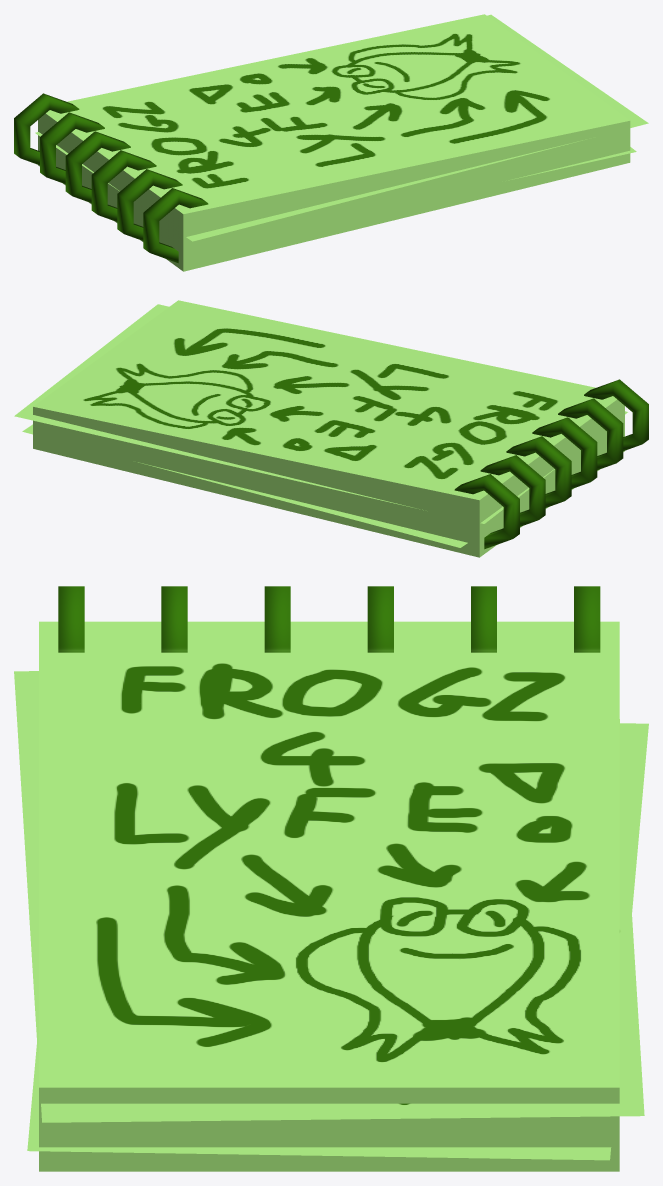
Rendered from notepad.glb.
3 renders of one model, top to bottom at view 1: azimuth 30°, elevation 25°; view 2: azimuth 150°, elevation 25°; view 3: azimuth 270°, elevation 25°, orthographic. The views are drawn at different scales.
Parts seen in each view (by area): view 1: Notepad; view 2: Notepad; view 3: Notepad.
Boxes of the visible parts, x1,y1,x2,y2 form: Notepad: (14,14,648,271); Notepad: (14,300,648,557); Notepad: (14,586,648,1171).
Size of the model in its own units: 0.4188 by 0.0609 by 0.233.
Materials: 1 (1 with a texture image).
